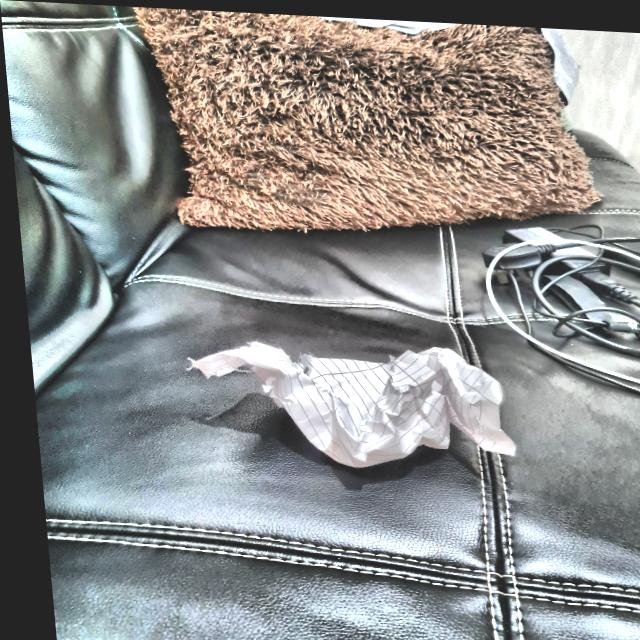Paper: (193, 331, 506, 470)
